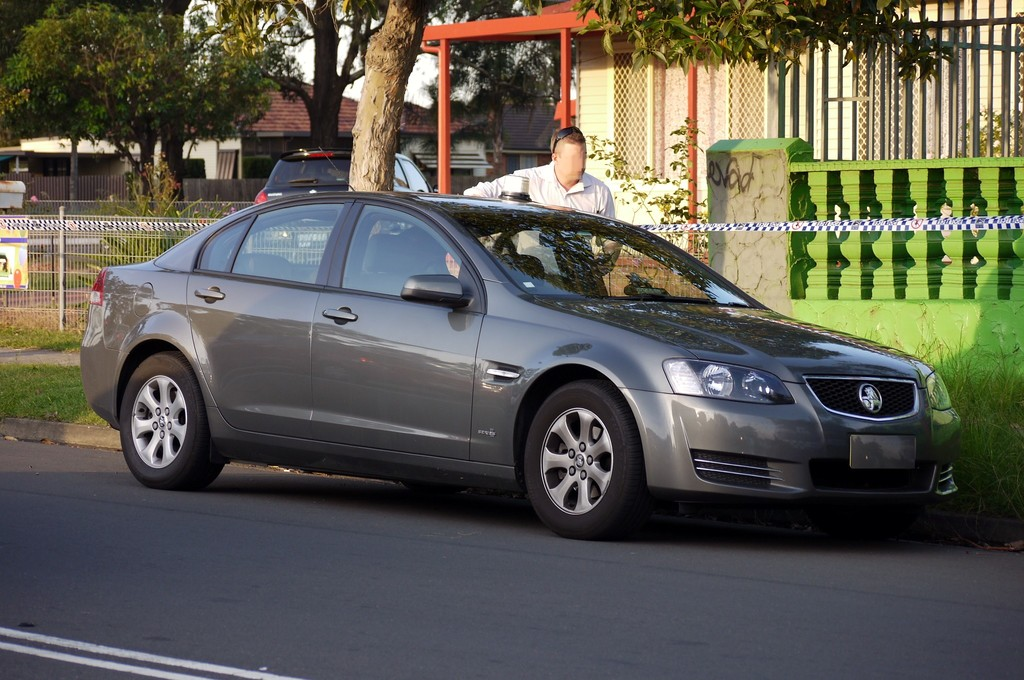Tree: (0, 0, 953, 218)
